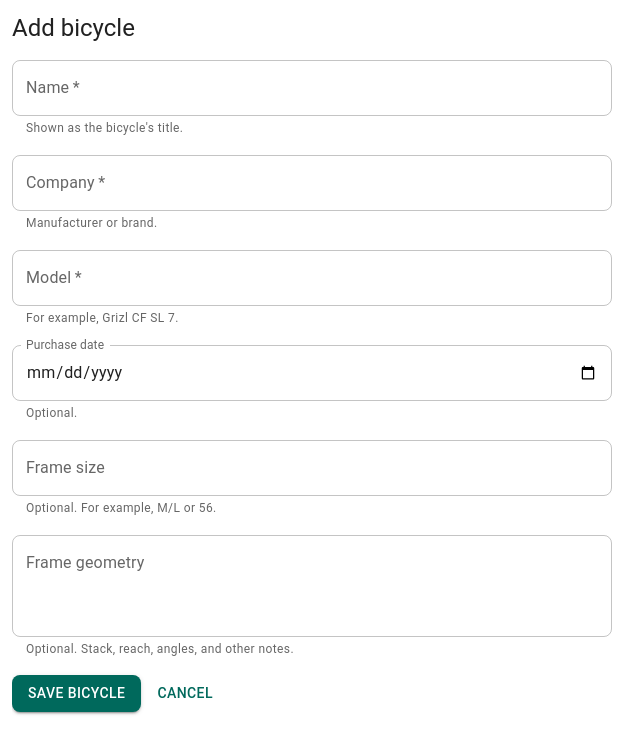
Test: AddBicycle › explains a name rejected as tooLong
Click the button "Save bicycle".
click(77, 694)  # box [12,676,141,712]
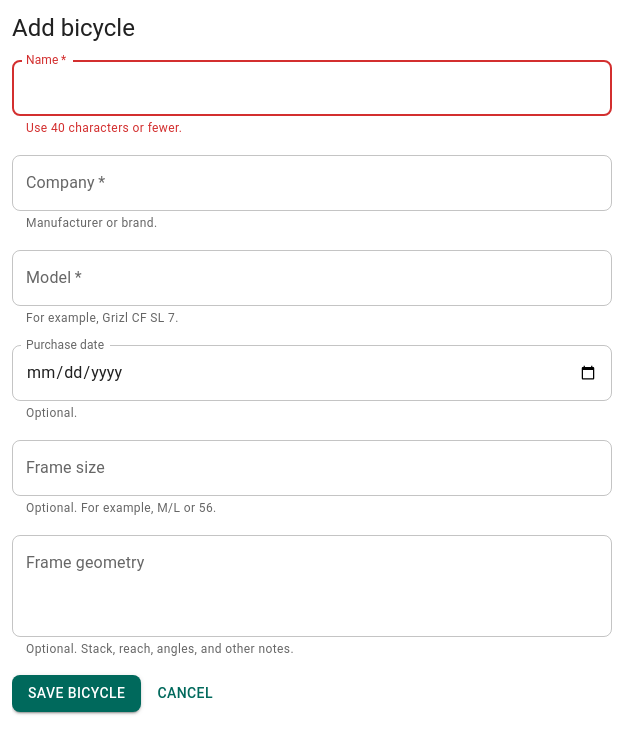
expect the text "Use 40 characters or fewer." is shown: met, box [26,121,182,135]
